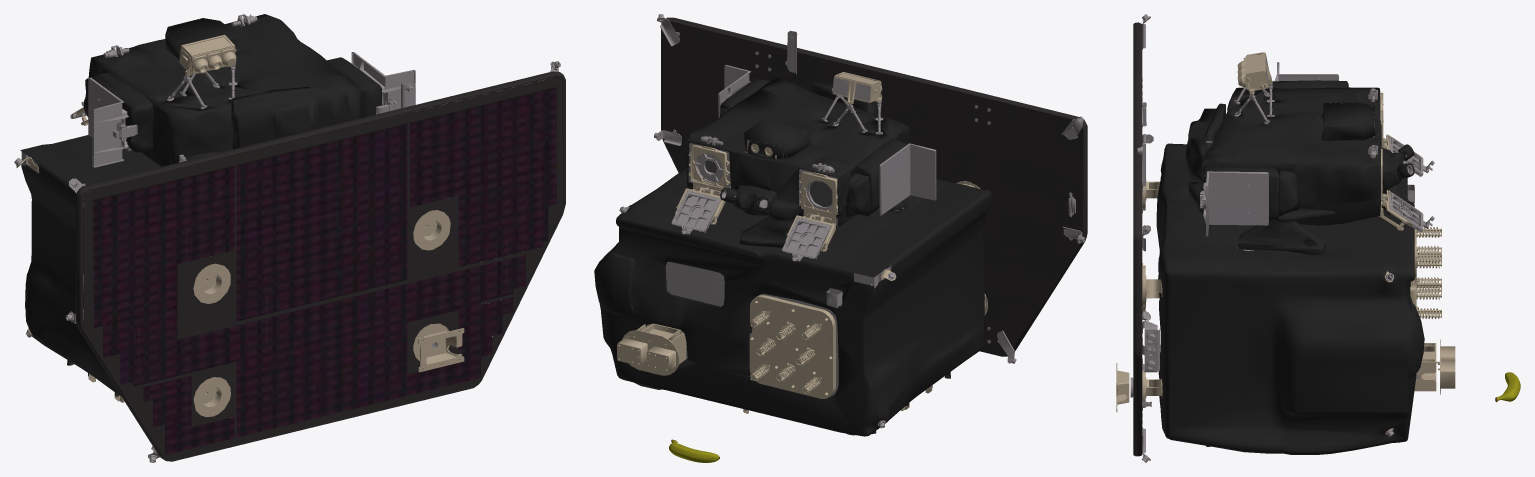
The picture shows the model from 3 angles, left to right: view 1: azimuth 30°, elevation 25°; view 2: azimuth 150°, elevation 25°; view 3: azimuth 270°, elevation 25°; orthographic projection. The views are drawn at different scales.
Parts seen in each view (by area): view 1: polySurface98, pCube7, polySurface4, Solid32_8, NONE_SAFE_3; view 2: pCube7, polySurface4, NONE_SAFE_3, Solid32_8, Banana, pCylinder7; view 3: pCube7, NONE_SAFE_3, Solid32_8, polySurface4, Banana.
Boxes of the visible parts, x1=… form: polySurface98: x1=92, y1=87, x2=556, y2=454; pCube7: x1=20, y1=14, x2=382, y2=396; polySurface4: x1=67, y1=71, x2=565, y2=461; Solid32_8: x1=16, y1=19, x2=464, y2=417; NONE_SAFE_3: x1=14, y1=14, x2=560, y2=462; pCube7: x1=594, y1=78, x2=991, y2=436; polySurface4: x1=661, y1=17, x2=1087, y2=433; NONE_SAFE_3: x1=619, y1=14, x2=1085, y2=428; Solid32_8: x1=617, y1=72, x2=987, y2=422; Banana: x1=669, y1=439, x2=719, y2=462; pCylinder7: x1=705, y1=160, x2=832, y2=206; pCube7: x1=1156, y1=80, x2=1424, y2=454; NONE_SAFE_3: x1=1130, y1=14, x2=1434, y2=462; Solid32_8: x1=1116, y1=52, x2=1455, y2=433; polySurface4: x1=1133, y1=22, x2=1210, y2=456; Banana: x1=1495, y1=372, x2=1520, y2=402.
Size of the model in its own units: 1.74 by 1.17 by 1.38.
Materials: 8 (5 with a texture image).
